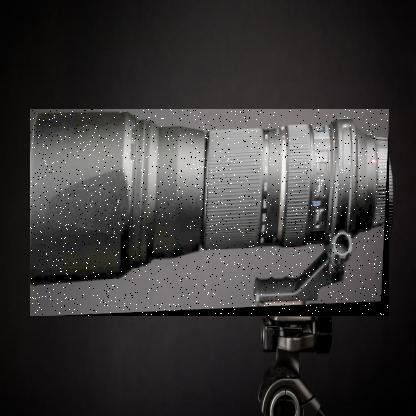Camera: (32, 110, 392, 318)
